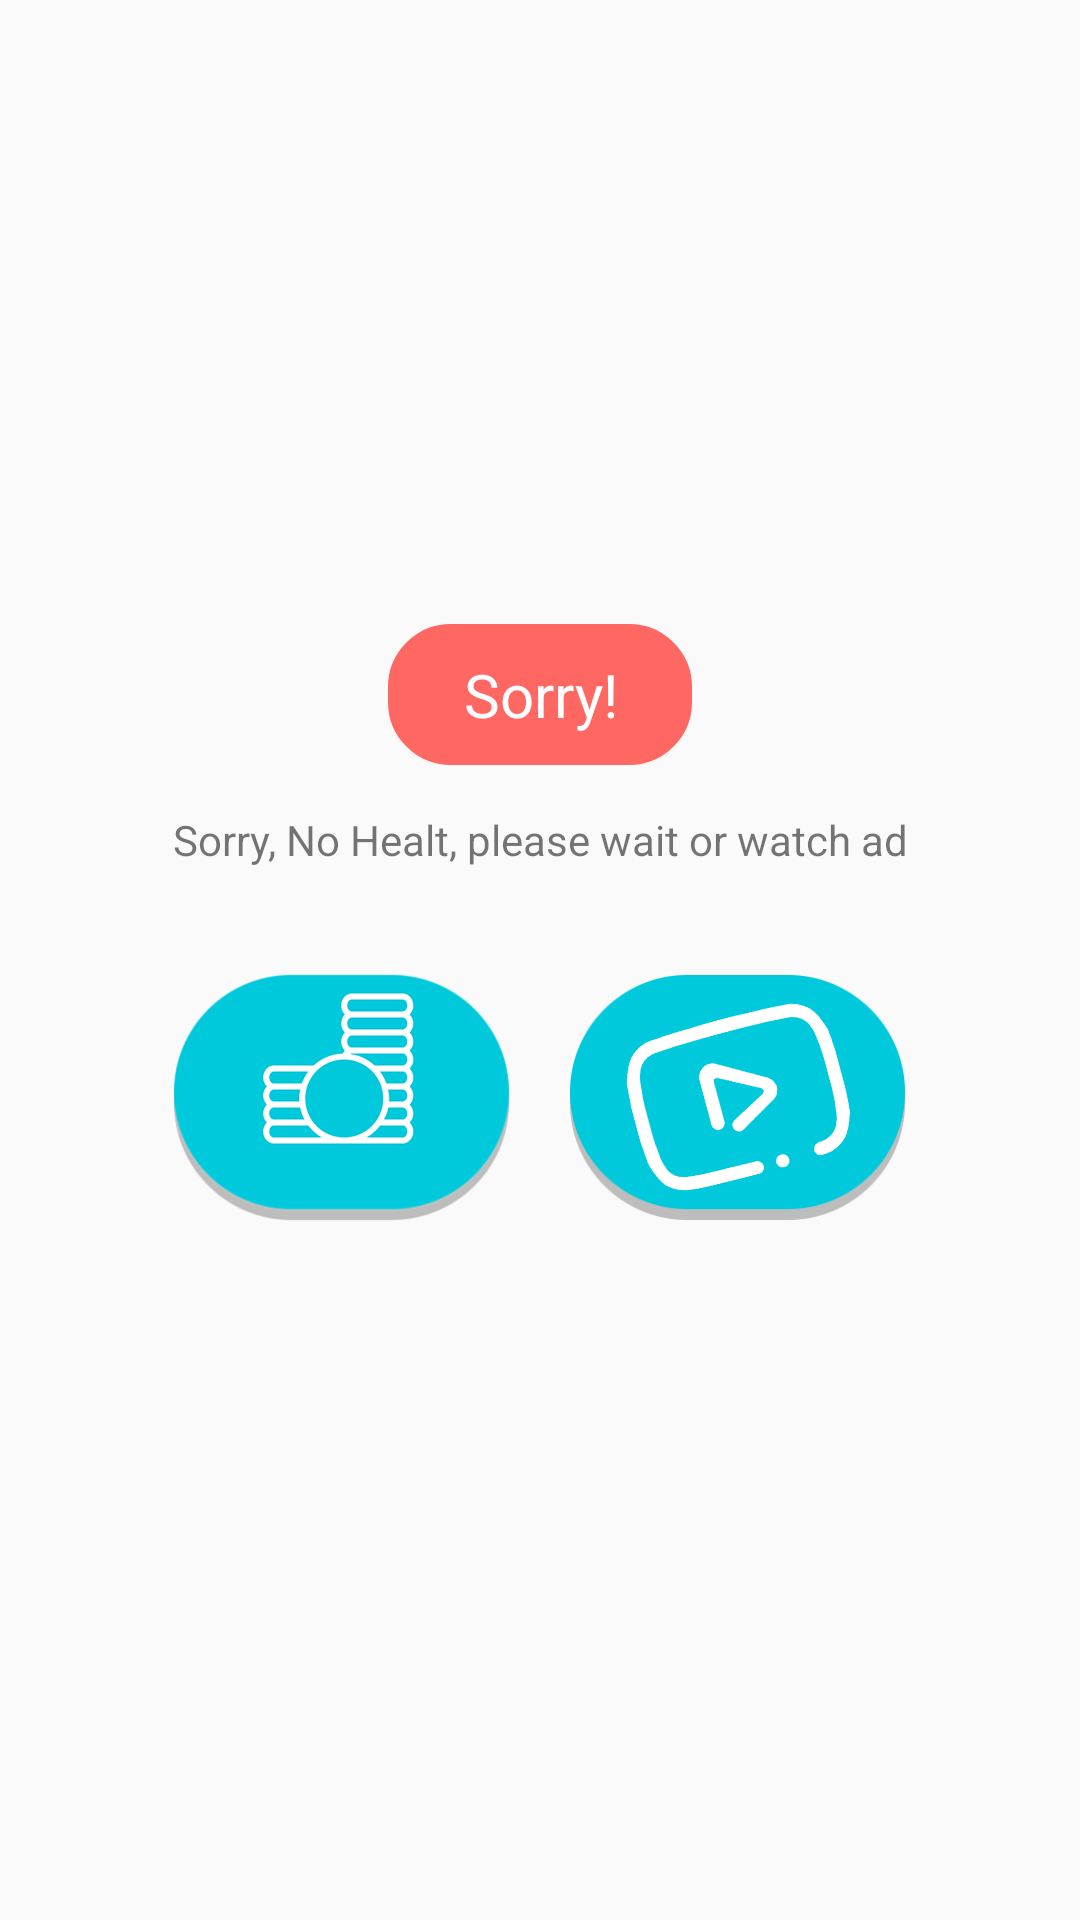

Icon bounding boxes for this 1080×1920 phone screenshot, format (x1, y1, x2, y2):
coin: (174, 974, 510, 1220)
play: (570, 975, 905, 1220)
